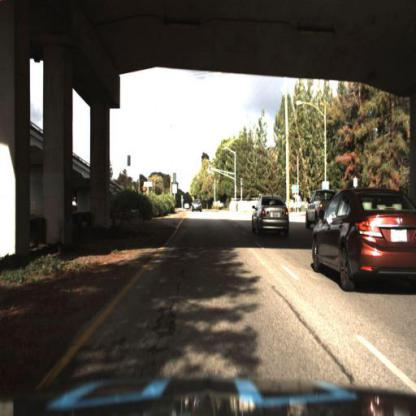car: (313, 182, 416, 318), (250, 190, 292, 241), (187, 200, 201, 216)
